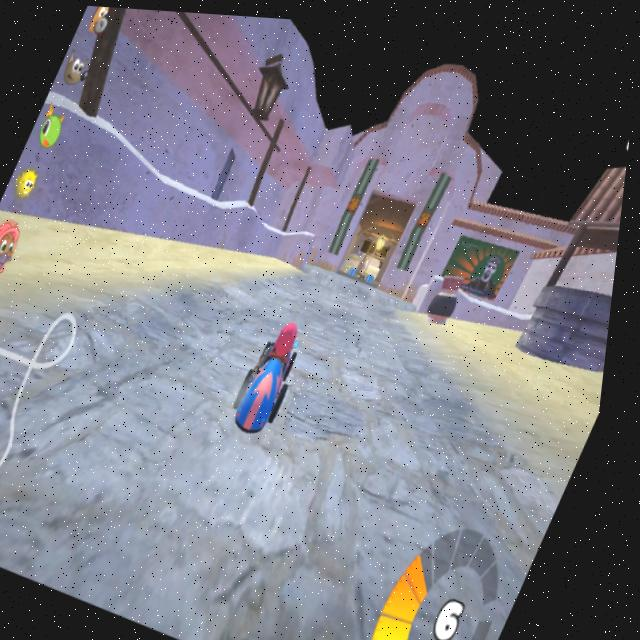off_track: (416, 276, 603, 394)
player_kart: (218, 300, 326, 441)
track: (33, 382, 410, 640), (293, 313, 479, 468), (288, 242, 410, 339)
